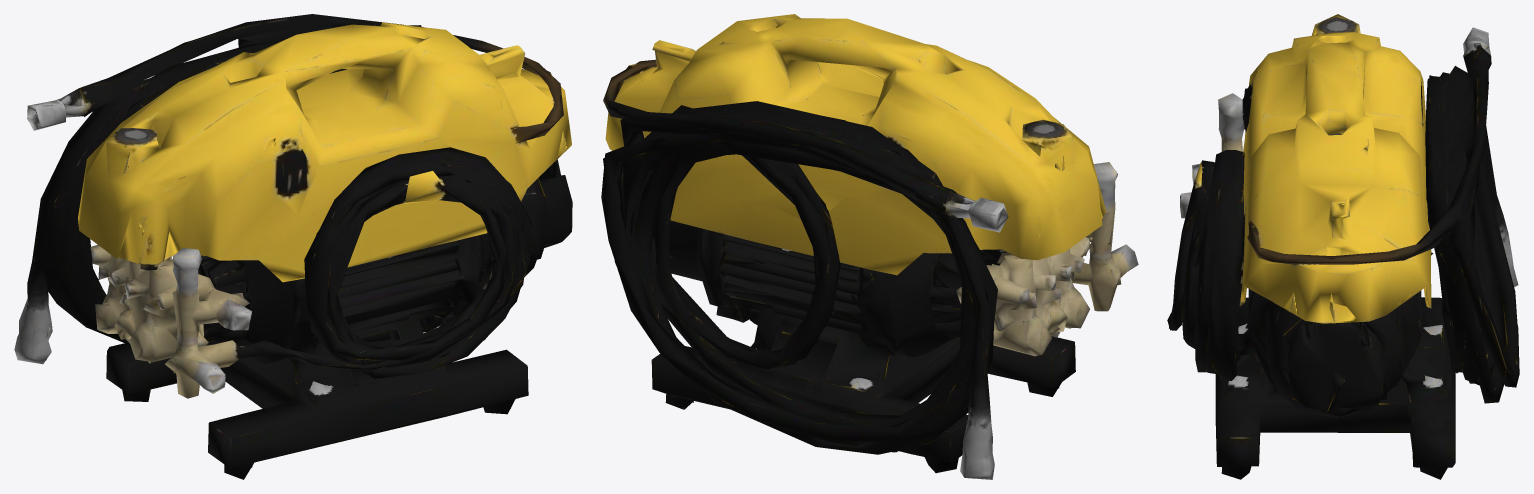
Rendered from washer.glb.
3 views of the same model, side by side, from view 1: azimuth 30°, elevation 25°; view 2: azimuth 150°, elevation 25°; view 3: azimuth 270°, elevation 25° (orthographic). The views are drawn at different scales.
Visible parts, largest first — view 1: geom0; view 2: geom0; view 3: geom0.
Boxes of the visible parts, x1,y1,x2,y2 form: geom0: (14,14,572,479); geom0: (601,14,1138,479); geom0: (1167,14,1519,479).
Size of the model in its own units: 0.55 by 0.4123 by 0.3735.
Materials: 1 (1 with a texture image).
